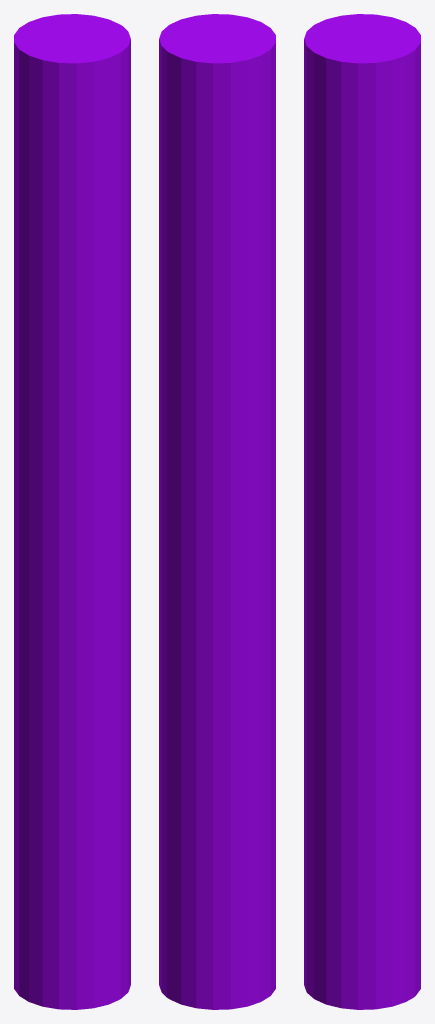
The model's file is connecting_pin.glb.
3 renders of one model, left to right at view 1: azimuth 30°, elevation 25°; view 2: azimuth 210°, elevation 25°; view 3: azimuth 330°, elevation 25°, orthographic.
Visible parts, largest first — view 1: Node1; view 2: Node1; view 3: Node1.
Boxes of the visible parts, <box> form: Node1: <box>14,14,130,1009</box>; Node1: <box>159,14,275,1009</box>; Node1: <box>304,14,420,1009</box>.
Bounding box in the file's own units: 1.25 × 11.11 × 1.24.
